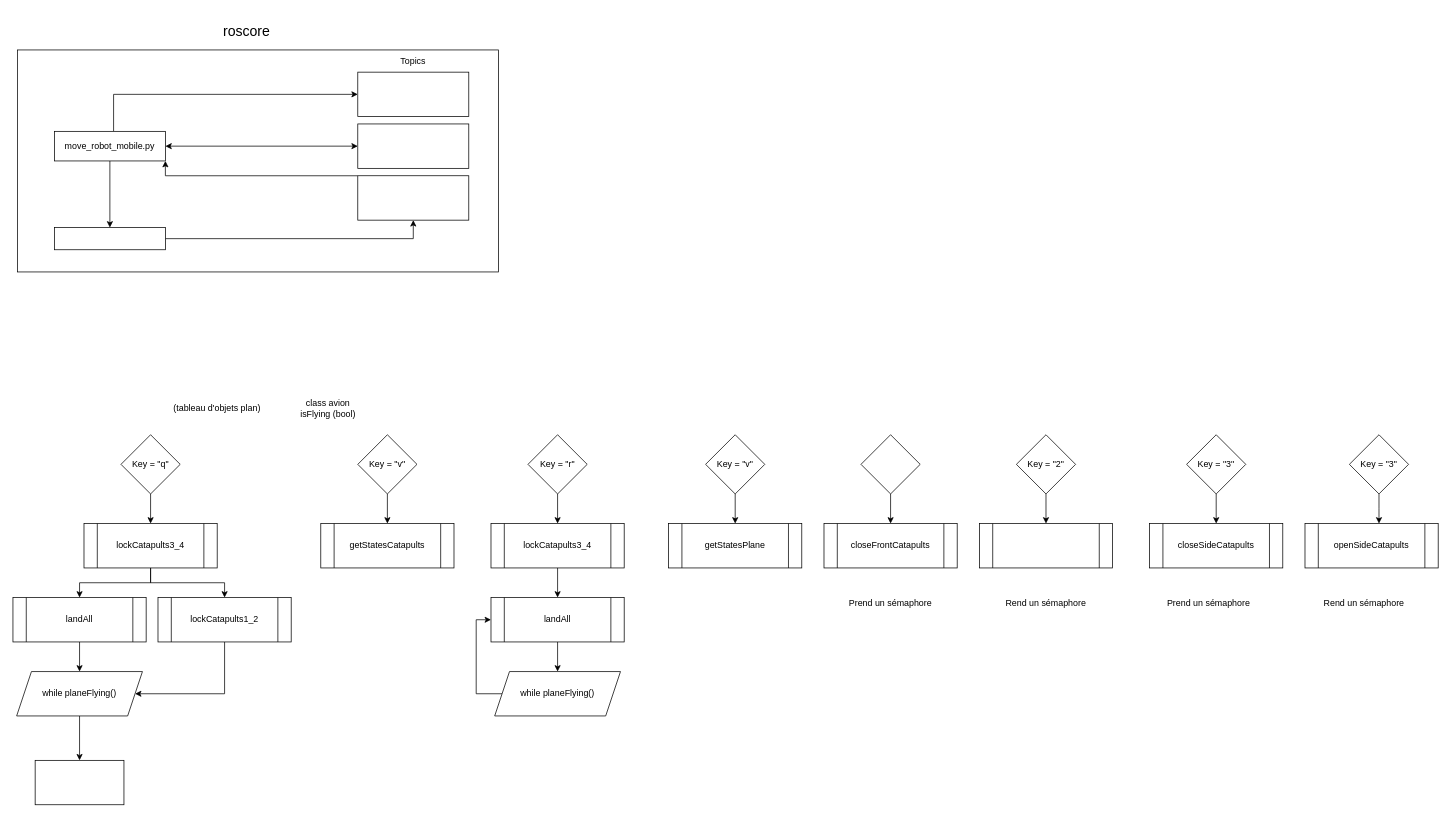
The diagram is 1451 pixels wide and 818 high, and some of its shapes have lost their labels. Here are the shapes that lost their labels. From the top down, the centre of each, then its label:
point (413, 94): /cmd_vel
point (413, 145): /bumper
point (413, 197): /base_scan
point (109, 238): STAGE
point (890, 464): Key = "1"
point (1046, 545): openFrontCatapults
point (79, 782): joint()
